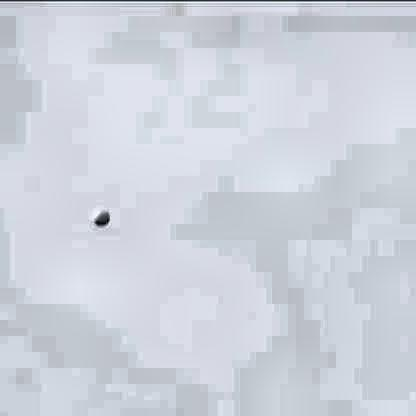golfball: (90, 205, 108, 224)
